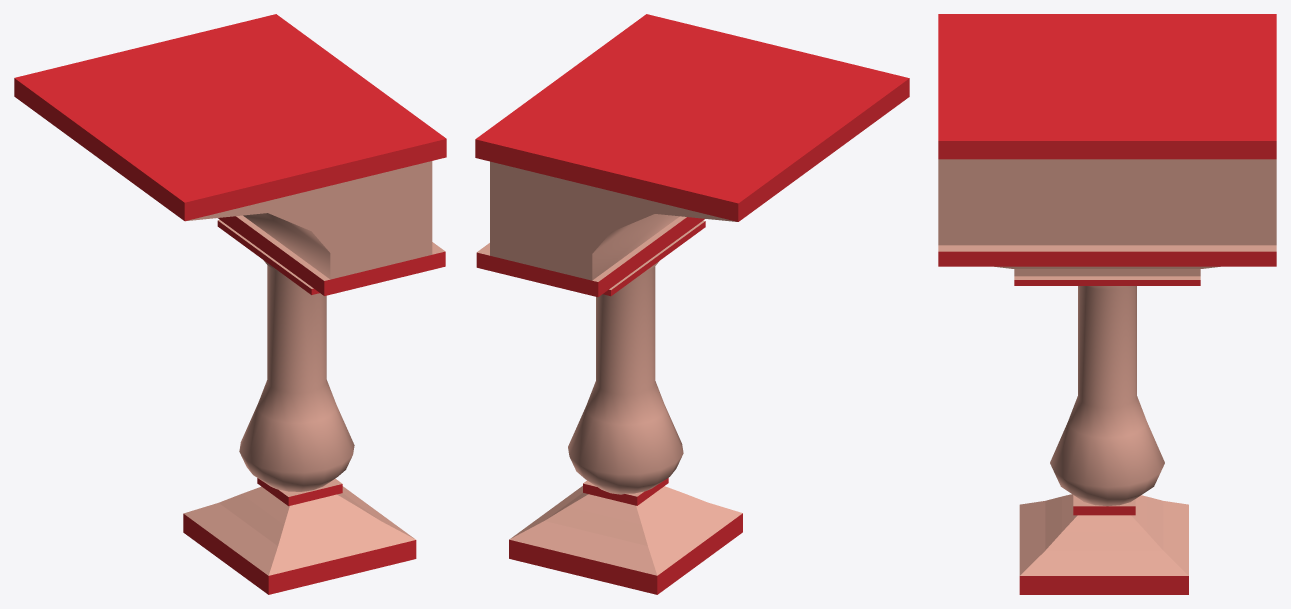
File: archway_001.fbx
3 views of the same model, side by side, from view 1: azimuth 30°, elevation 25°; view 2: azimuth 150°, elevation 25°; view 3: azimuth 270°, elevation 25° (orthographic).
Visible parts, largest first — view 1: finish.003; view 2: finish.003; view 3: finish.003.
Part boxes in pixels (left/top/right/bottom): finish.003: left=14, top=14, right=446, bottom=594; finish.003: left=475, top=14, right=909, bottom=594; finish.003: left=938, top=14, right=1276, bottom=594.
Size of the model in its own units: 185 by 293 by 200.
